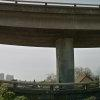Bridge: (7, 2, 93, 60)
